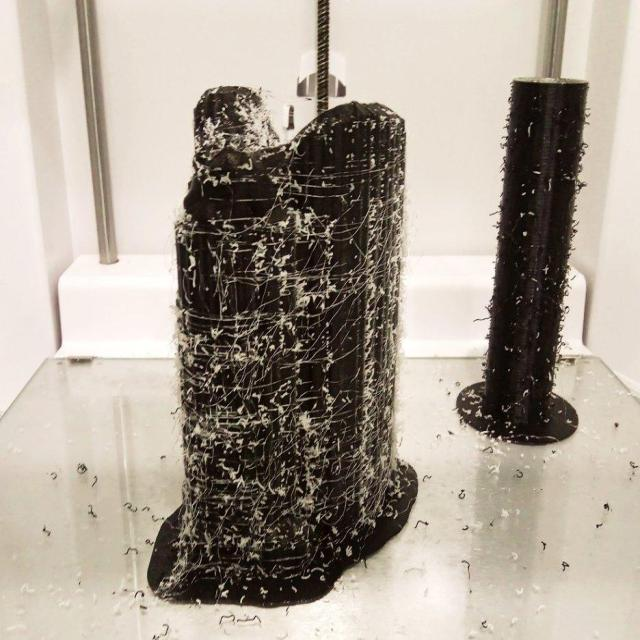Stringing: (170, 198, 363, 546)
